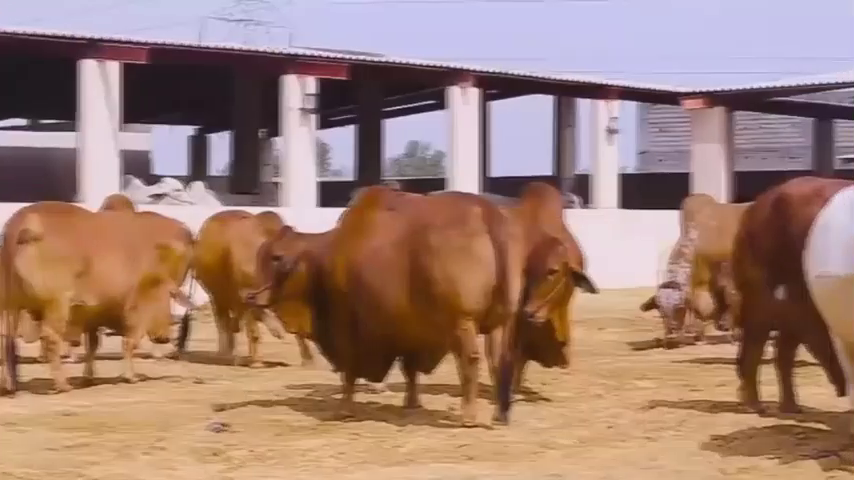bo: (236, 183, 522, 429), (722, 156, 854, 422), (7, 196, 180, 392), (494, 172, 595, 391), (635, 187, 745, 355), (190, 199, 282, 358)
